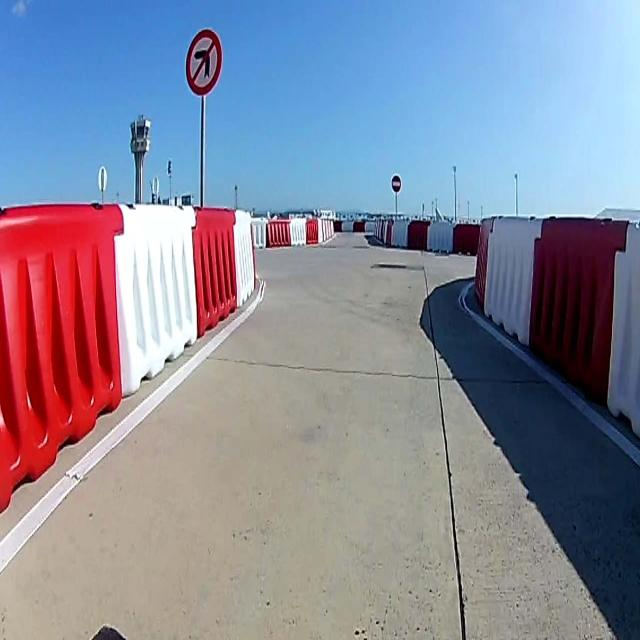soladonulmez: (185, 30, 222, 94)
